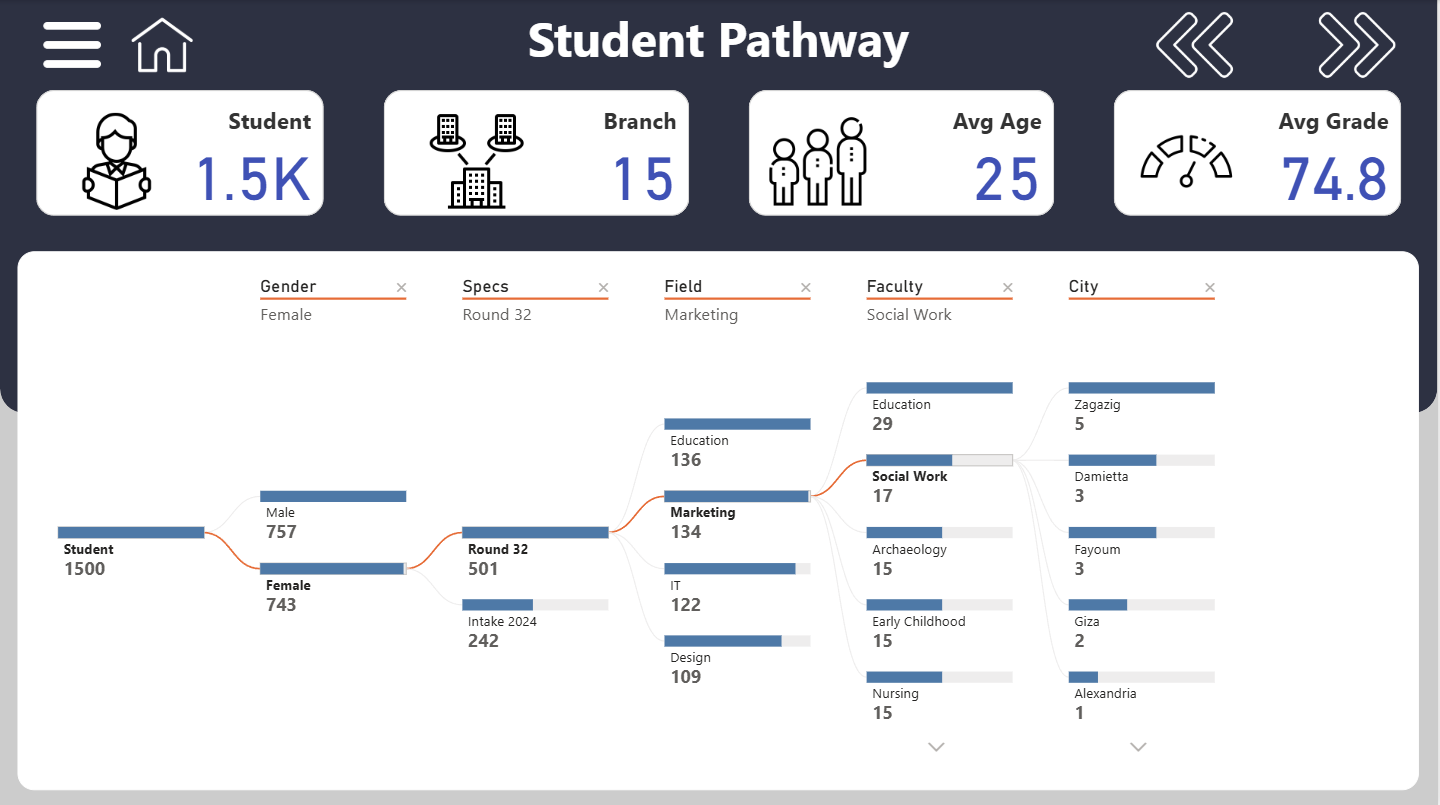

This screenshot's page, from the dashboard's own definition file:
{"tool":"powerbi","page":{"name":"04.Student Path","canvas":[1280,720],"ordinal":3},"visuals":[{"type":"shape","box":[0,0,1280,368],"z":0},{"type":"cardVisual","fields":{"Data":["CountNonNull(Dim_student.st_id_BK)"]},"box":[32,80,256,112],"z":1000},{"type":"cardVisual","fields":{"Data":["Avg(Dim_student.Age)"]},"box":[666.7,80,272,112],"z":2000},{"type":"cardVisual","fields":{"Data":["Avg(Dim_student.Grade_As_Percentage)"]},"box":[992,80,256,112],"z":3000},{"type":"cardVisual","fields":{"Data":["CountNonNull(Dim_Branch.Branch_Name)"]},"box":[341.3,80,272,112],"z":4000},{"type":"textbox","box":[400,0,480,80],"z":5000},{"type":"decompositionTreeVisual","title":"Graduates per gender per Branch","fields":{"Analyze":["CountNonNull(Dim_student.st_id_BK)"],"ExplainBy":["Dim_student.Gender","Dim_student.Specs","Dim_student.Related_Field","Dim_student.Fac_name","Dim_student.City"]},"box":[16,224,1248,480],"z":6000},{"type":"image","box":[1008,96,96,96],"z":7000},{"type":"image","box":[48,96,112,96],"z":8000},{"type":"image","box":[368,96,112,96],"z":9000},{"type":"image","box":[672,96,112,96],"z":10000},{"type":"image","box":[1136,0,144,80],"z":11000},{"type":"image","box":[992,0,144,80],"z":12000},{"type":"image","box":[32,0,64,80],"z":13000},{"type":"image","box":[112,0,64,80],"z":14000}]}

Visuals, with their boxes in screenshot pixels (x1, y1, x2, y2), scaled from the page's 1280x720 canvas onto the 1440x805 screenshot:
shape: 0, 0, 1439, 411
cardVisual - CountNonNull(Dim_student.st_id_BK): 36, 89, 324, 215
cardVisual - Avg(Dim_student.Age): 750, 89, 1056, 215
cardVisual - Avg(Dim_student.Grade_As_Percentage): 1116, 89, 1404, 215
cardVisual - CountNonNull(Dim_Branch.Branch_Name): 384, 89, 690, 215
textbox: 450, 0, 990, 89
"Graduates per gender per Branch" decompositionTreeVisual: 18, 250, 1422, 787
image: 1134, 107, 1242, 215
image: 54, 107, 180, 215
image: 414, 107, 540, 215
image: 756, 107, 882, 215
image: 1278, 0, 1439, 89
image: 1116, 0, 1278, 89
image: 36, 0, 108, 89
image: 126, 0, 198, 89
